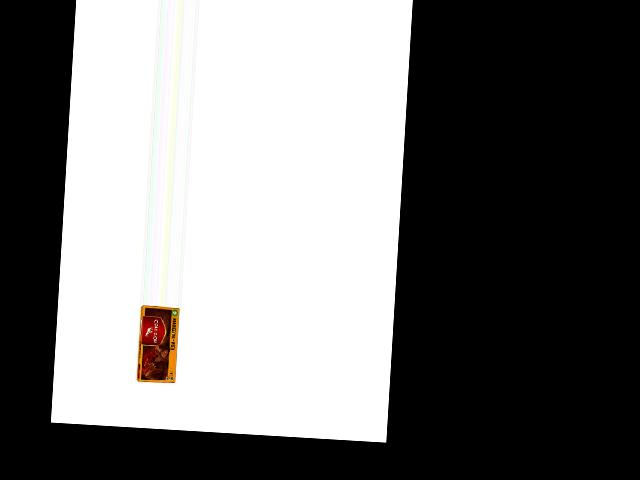chocolate: (134, 305, 186, 385)
